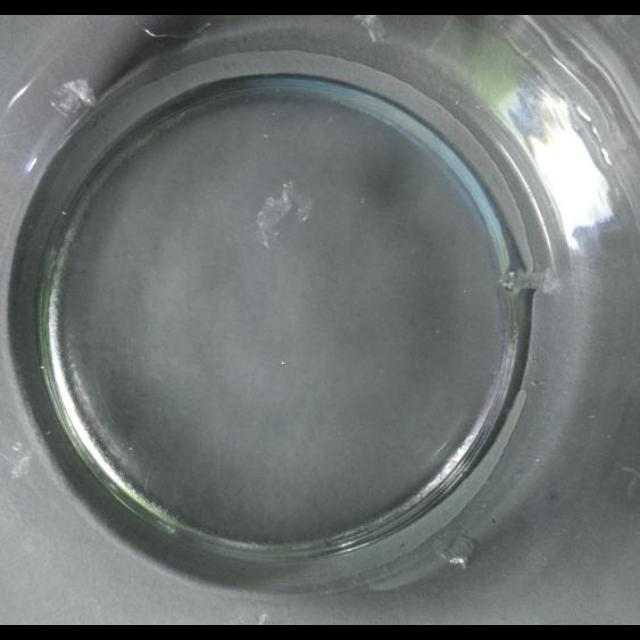Fibre: (254, 172, 316, 250), (49, 76, 96, 118), (499, 266, 549, 298), (354, 16, 386, 42)
microbeads: (8, 448, 32, 480), (257, 613, 269, 625)
